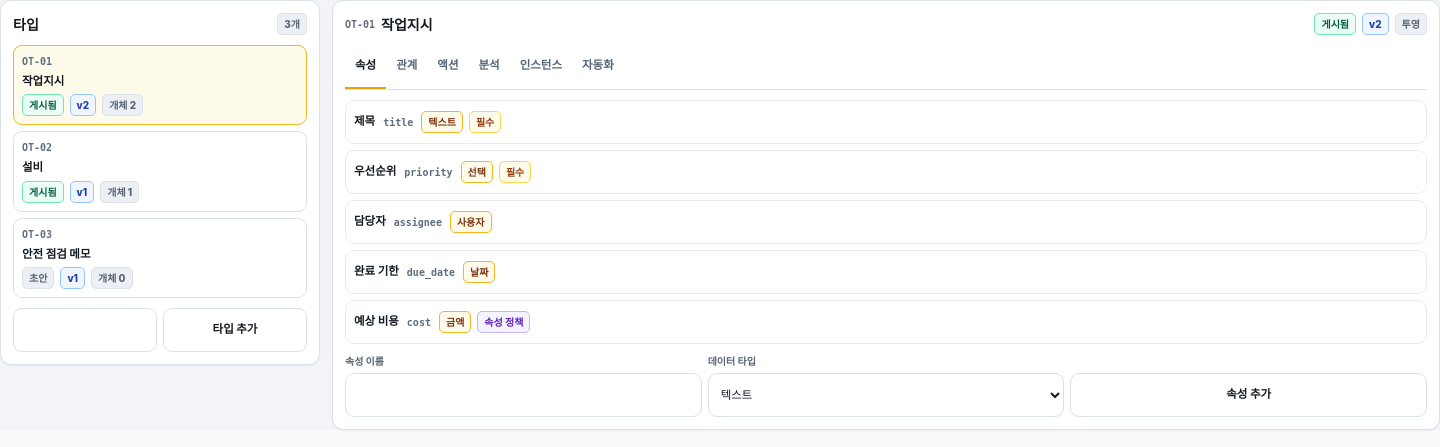
Test: OntologyManagerScreen (design change-log 63) › edits draft types direct — no staging banner, no version bump
The width and height of the screenshot is (1440, 447).
Click the button with aria-label "OT-03 안전 점검 메모 타입 편집": click(37, 234) top-left (13, 218), bottom-right (307, 298)
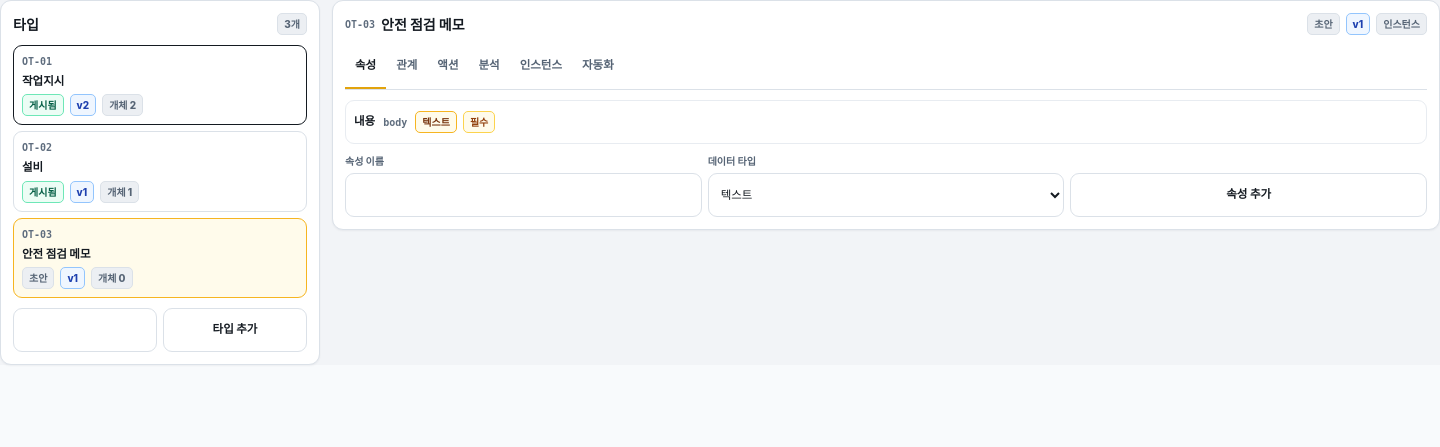
In the field labelled "속성 이름": (523, 195) top-left (345, 173), bottom-right (702, 217), type "점검자"
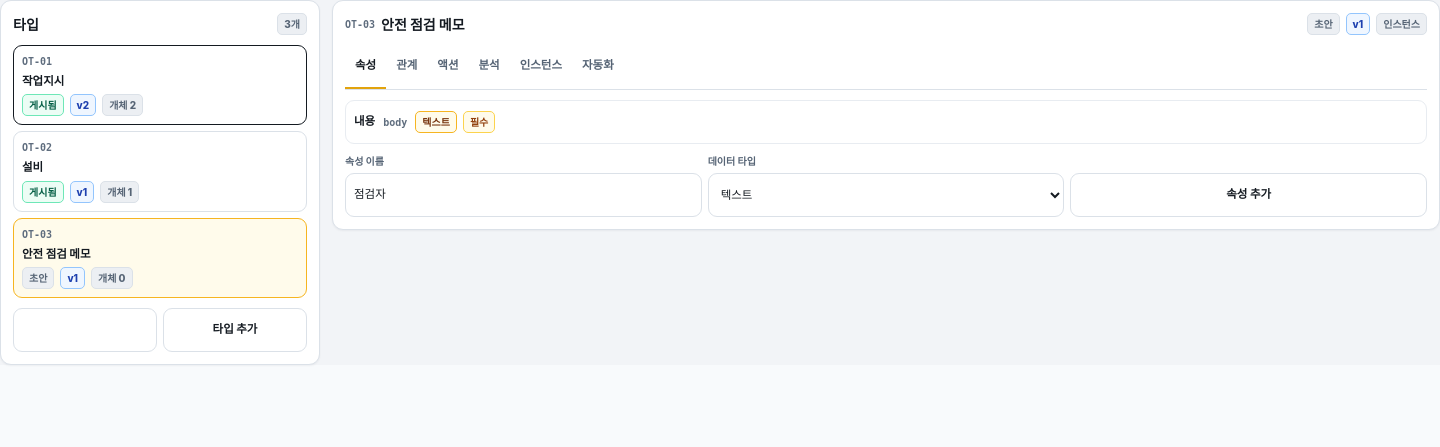
Click the button "속성 추가": click(1249, 195) top-left (1070, 173), bottom-right (1427, 217)
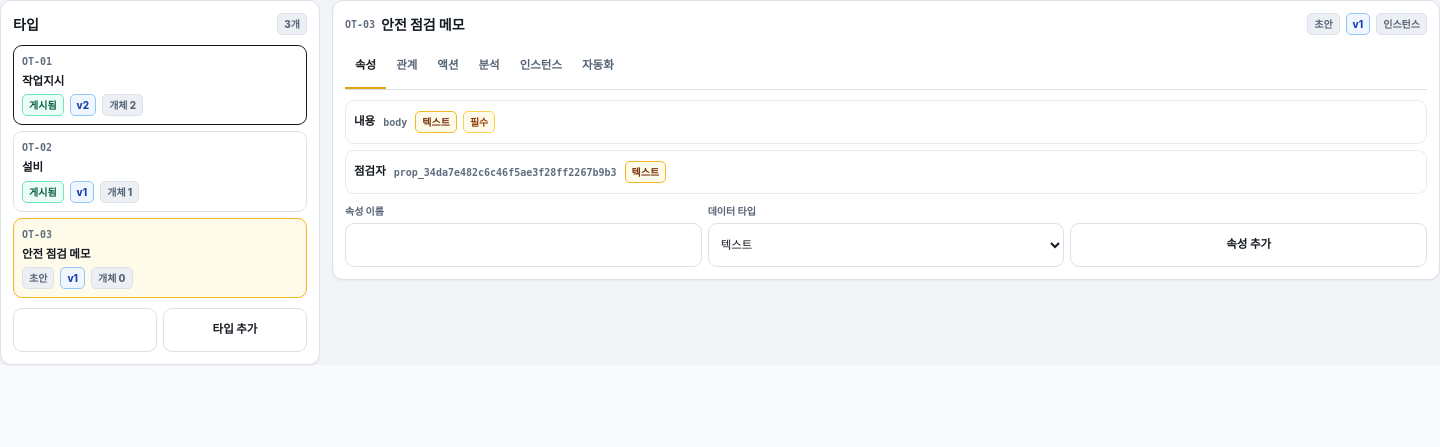
Expected: the 1st text "v1" is shown, top-left (1346, 13), bottom-right (1370, 35)
Expected: the text "점검자" is shown, top-left (354, 163), bottom-right (386, 181)
